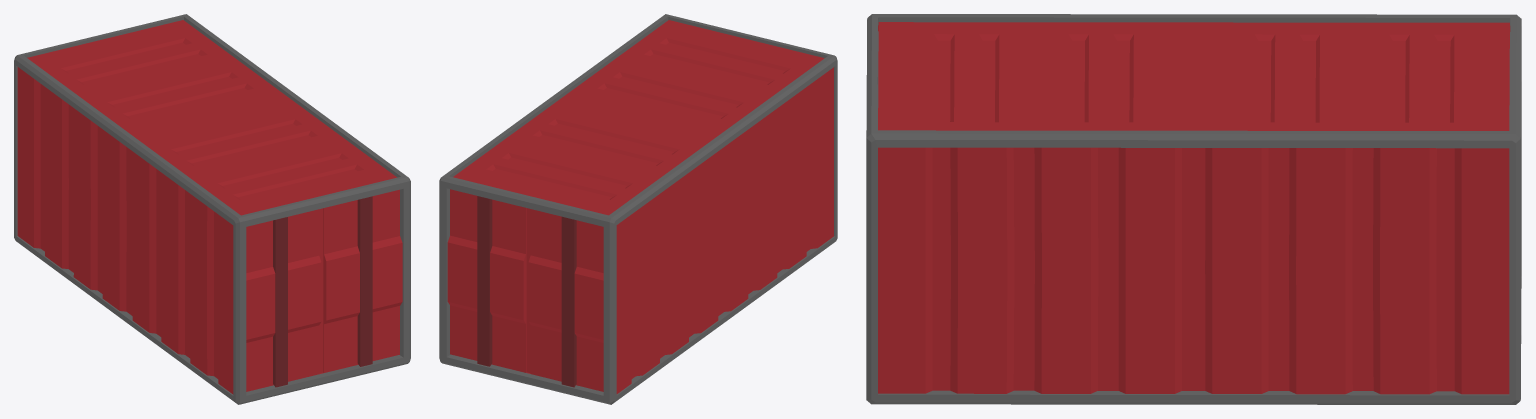
File: trainCar-harbor-11.glb
3 views of the same model, side by side, from view 1: azimuth 30°, elevation 25°; view 2: azimuth 150°, elevation 25°; view 3: azimuth 270°, elevation 25° (orthographic). The views are drawn at different scales.
Parts seen in each view (by area): view 1: piece; view 2: piece; view 3: piece.
Boxes of the visible parts, <box> form: piece: <box>14,14,410,404</box>; piece: <box>439,14,837,404</box>; piece: <box>866,14,1521,404</box>.
Size of the model in its own units: 2.57 by 2.6 by 5.71.
Materials: 1 (1 with a texture image).
